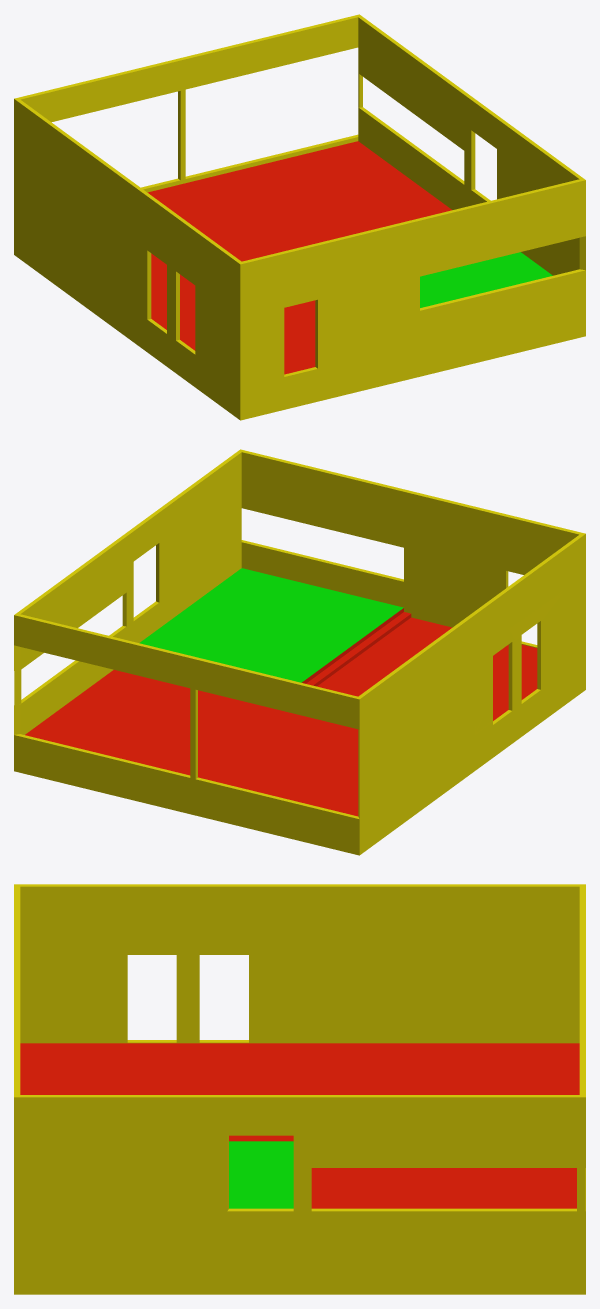
Rendered from Huis.fbx.
The picture shows the model from 3 angles, top to bottom: view 1: azimuth 30°, elevation 25°; view 2: azimuth 150°, elevation 25°; view 3: azimuth 270°, elevation 25°; orthographic projection. The views are drawn at different scales.
Parts seen in each view (by area): view 1: pCube24; view 2: pCube24, pCube25; view 3: pCube24.
Part boxes in pixels (left/top/right/bottom): pCube24: left=14, top=14, right=585, bottom=420; pCube24: left=14, top=449, right=585, bottom=855; pCube25: left=14, top=645, right=21, bottom=734; pCube24: left=14, top=884, right=585, bottom=1294.
Bounding box in the file's own units: 11.22 × 4.85 × 12.74.
